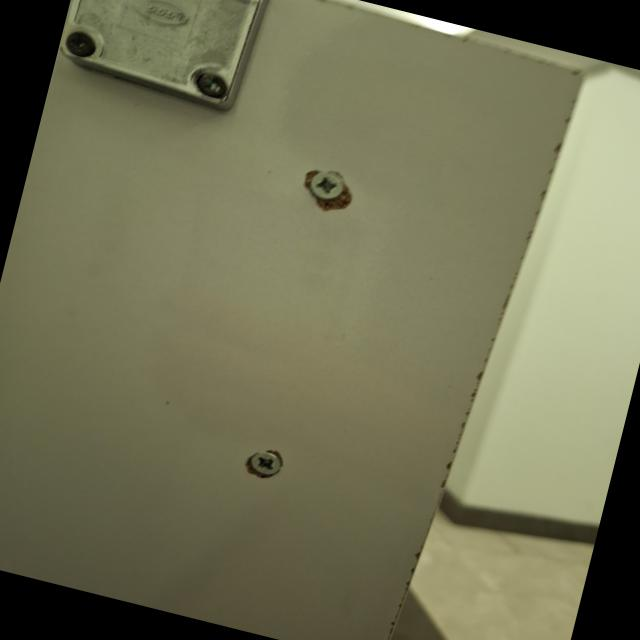Pozidriv: (303, 166, 351, 208), (249, 448, 283, 479)
